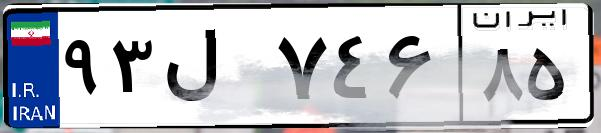3: (110, 28, 158, 98)
4: (330, 28, 385, 110)
5: (525, 38, 570, 115)
6: (385, 28, 445, 110)
7: (270, 28, 330, 110)
8: (475, 38, 525, 113)
9: (57, 26, 110, 100)
ل: (158, 20, 270, 120)
